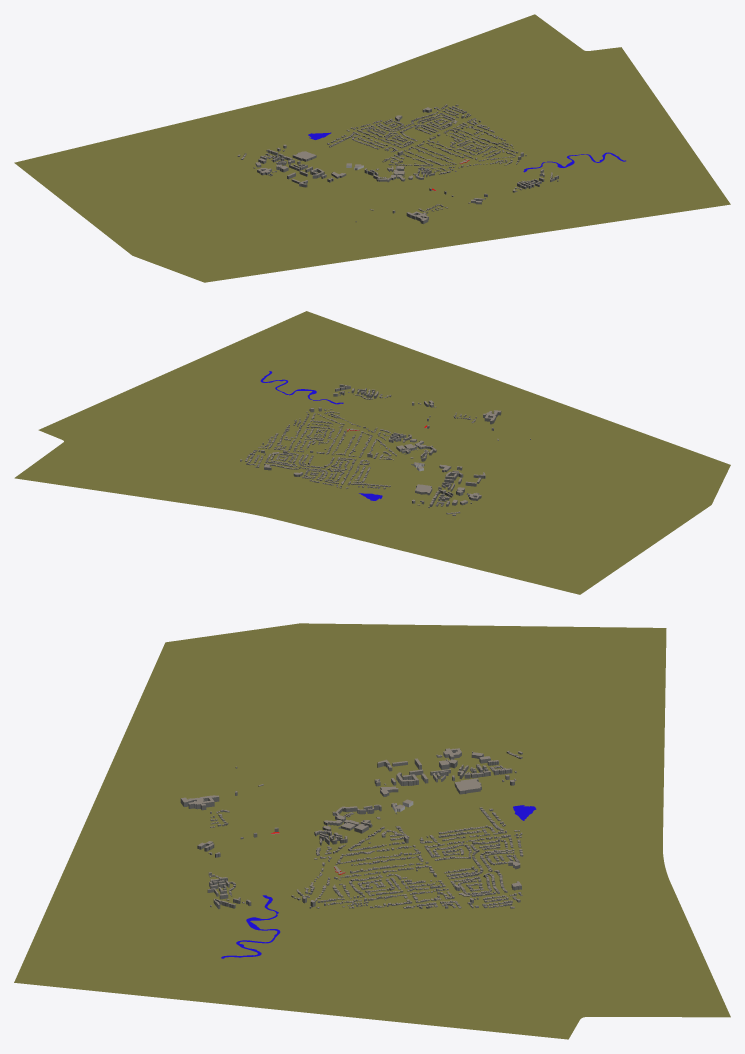
The model's file is bee.glb.
3 views of the same model, one above another, from view 1: azimuth 30°, elevation 25°; view 2: azimuth 150°, elevation 25°; view 3: azimuth 270°, elevation 25° (orthographic). The views are drawn at different scales.
Parts seen in each view (by area): view 1: c-col, b-col; view 2: c-col, b-col; view 3: c-col, b-col, map (2).osm_water.
Part boxes in pixels (<box>): c-col: <box>14,14,730,282</box>; b-col: <box>237,104,558,223</box>; c-col: <box>14,311,730,594</box>; b-col: <box>240,384,530,515</box>; c-col: <box>14,623,730,1039</box>; b-col: <box>180,748,523,909</box>; map (2).osm_water: <box>221,805,536,958</box>.
Bounding box in the file's own units: 6062 × 35.74 × 4413.
